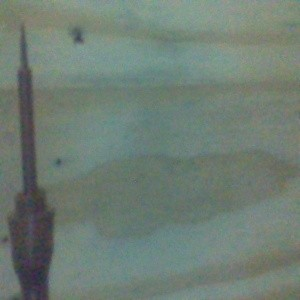solder: (5, 22, 56, 300)
